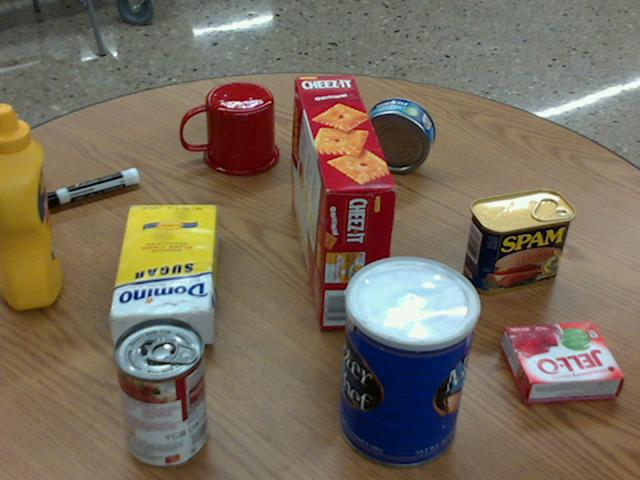cracker_box: (293, 76, 397, 328)
gelatin_box: (503, 321, 623, 402)
large_marker: (32, 167, 139, 209)
master_chef_can: (338, 257, 479, 467)
mug: (181, 82, 278, 175)
mustard_bottle: (0, 104, 61, 307)
potted_meat_can: (463, 189, 575, 293)
sugar_box: (107, 203, 217, 346)
tomato_soup_can: (111, 317, 205, 465)
tuna_fish_can: (359, 98, 433, 172)
